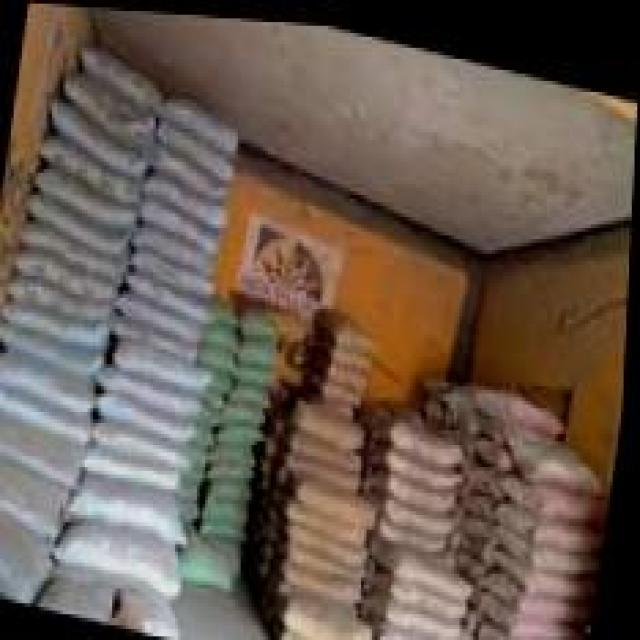gunny_bag: (63, 519, 185, 590), (0, 400, 93, 489), (24, 184, 133, 254), (67, 467, 184, 532), (0, 454, 79, 537), (51, 103, 149, 169), (106, 358, 209, 419), (46, 139, 135, 208), (0, 344, 100, 405), (119, 331, 216, 388), (101, 391, 200, 446), (513, 425, 607, 481), (82, 39, 162, 104), (19, 248, 117, 301), (0, 515, 61, 600), (146, 191, 224, 254), (162, 89, 241, 146), (502, 495, 606, 538), (126, 284, 203, 342), (10, 298, 111, 342), (138, 242, 216, 297), (300, 466, 375, 522), (388, 534, 472, 584), (512, 472, 607, 515), (499, 544, 597, 584), (290, 587, 375, 631), (295, 514, 374, 561), (298, 396, 372, 446), (292, 554, 367, 598), (394, 591, 466, 635), (166, 147, 226, 199), (396, 415, 464, 458), (394, 464, 460, 502), (391, 494, 458, 528), (300, 427, 366, 461), (240, 334, 282, 369), (235, 372, 275, 405), (332, 339, 373, 370), (202, 320, 242, 351), (209, 495, 251, 524), (214, 453, 257, 476), (325, 376, 362, 401), (226, 419, 264, 441)
